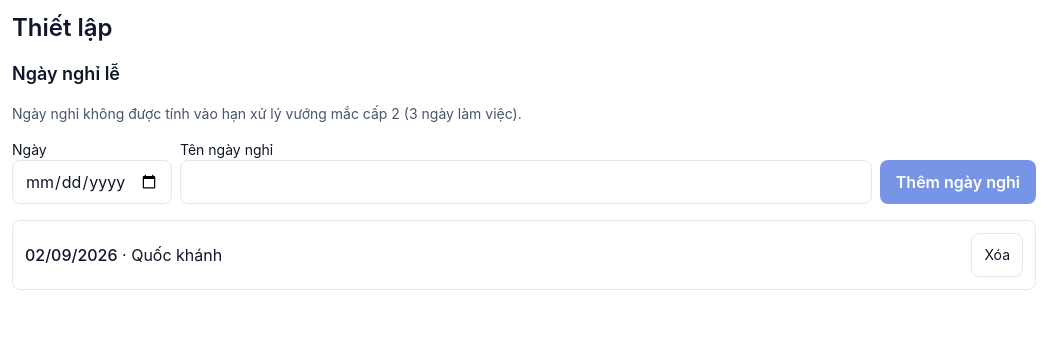
Test case: SettingsPage (holidays) › explains a duplicate day
The image size is (1048, 343).
expect the text "02/09/2026 · Quốc khánh" is shown: met, box x1=25 y1=243 x2=222 y2=267
Step 1. Type "2026-09-02" into the date field labelled "Ngày" → (92, 182), box x1=12 y1=160 x2=172 y2=204
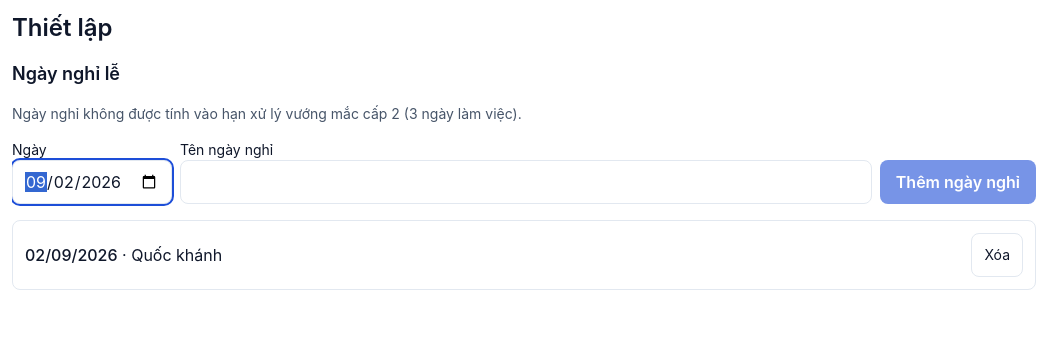
Step 2. Type "Trùng" into the field labelled "Tên ngày nghỉ" → (526, 182), box x1=180 y1=160 x2=872 y2=204
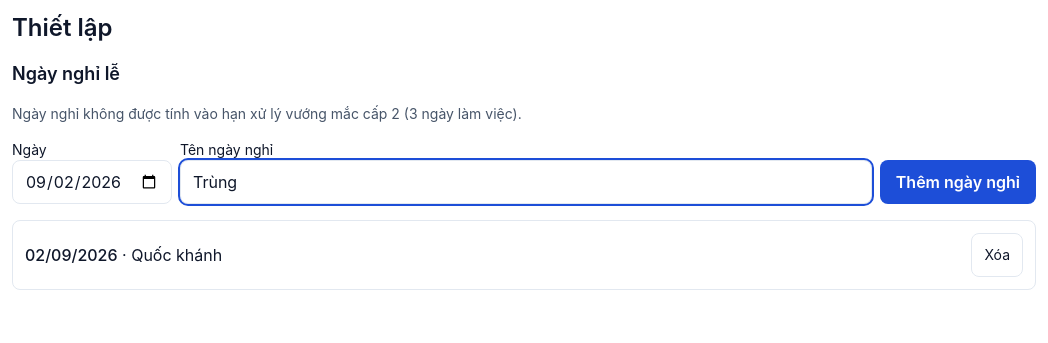
Step 3. Click the button "Thêm ngày nghỉ" → (958, 182), box x1=880 y1=160 x2=1036 y2=204
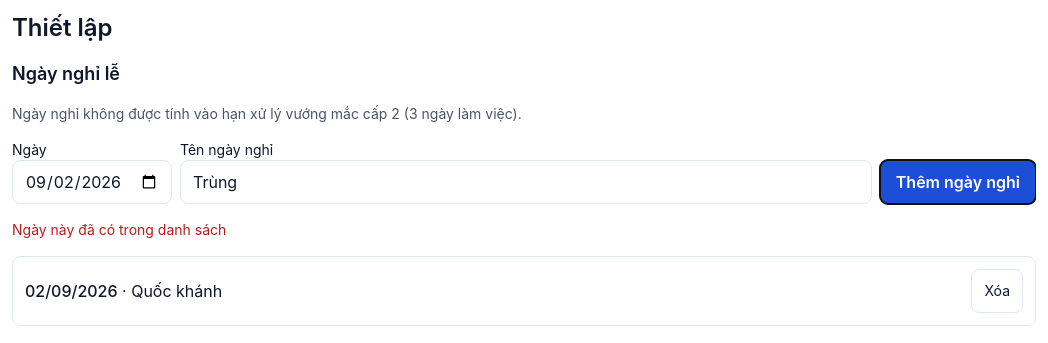
expect the message reads "Ngày này đã có trong danh sách": met, box x1=12 y1=221 x2=226 y2=238
